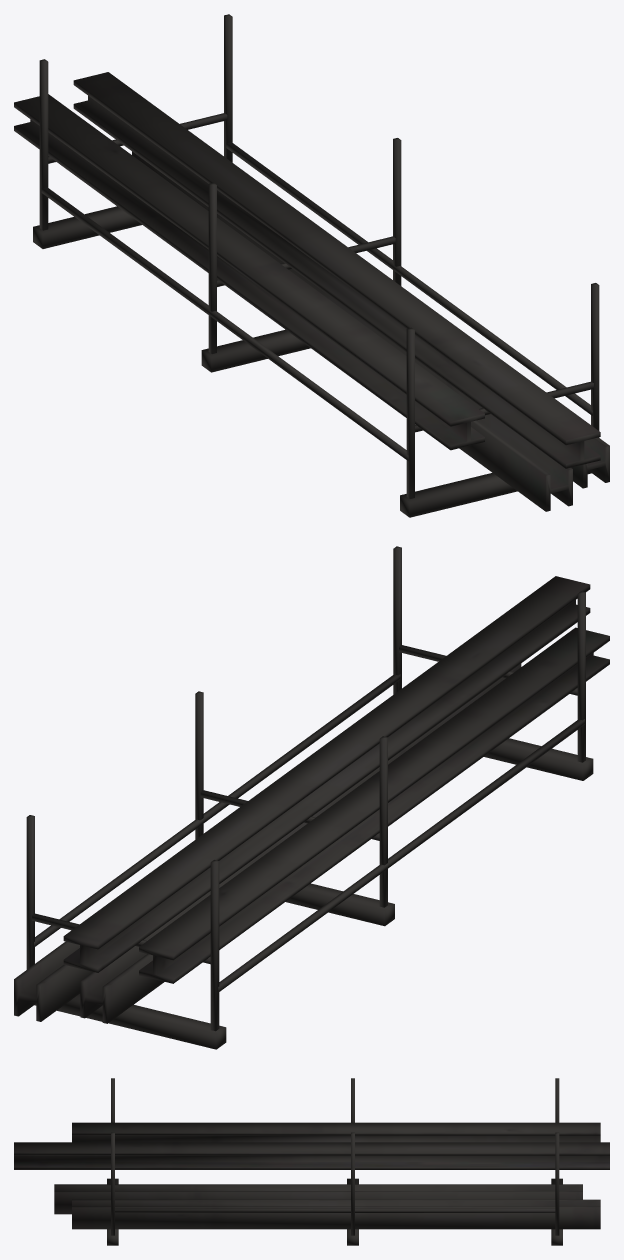
Rendered from Iron_Rode_7.glb.
3 views of the same model, one above another, from view 1: azimuth 30°, elevation 25°; view 2: azimuth 150°, elevation 25°; view 3: azimuth 270°, elevation 25° (orthographic). The views are drawn at different scales.
Parts seen in each view (by area): view 1: Iron_Rode_7; view 2: Iron_Rode_7; view 3: Iron_Rode_7.
Boxes of the visible parts, bbox=[...] form: Iron_Rode_7: bbox=[14, 14, 609, 517]; Iron_Rode_7: bbox=[14, 546, 609, 1049]; Iron_Rode_7: bbox=[14, 1078, 609, 1245].
Bounding box in the file's own units: 2.08 × 1.86 × 9.06.
1 material, 1 textured.
